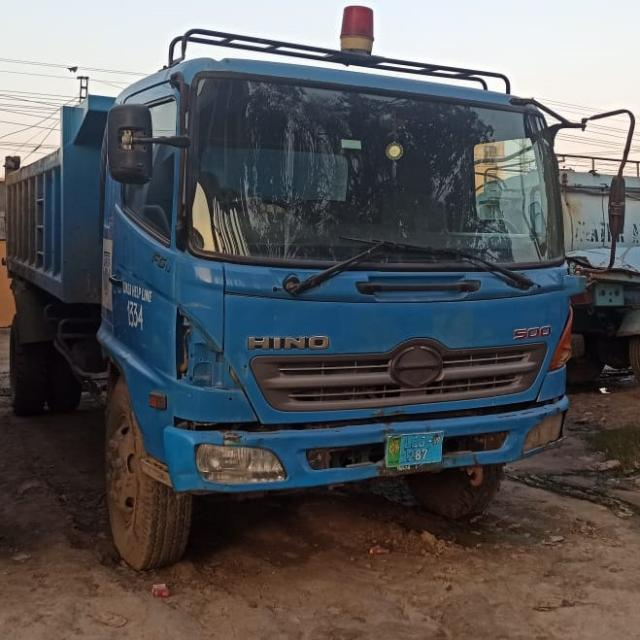plate: (386, 424, 444, 470)
